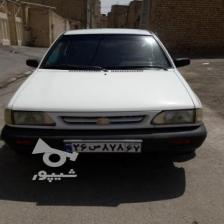plate: (61, 139, 140, 153)
